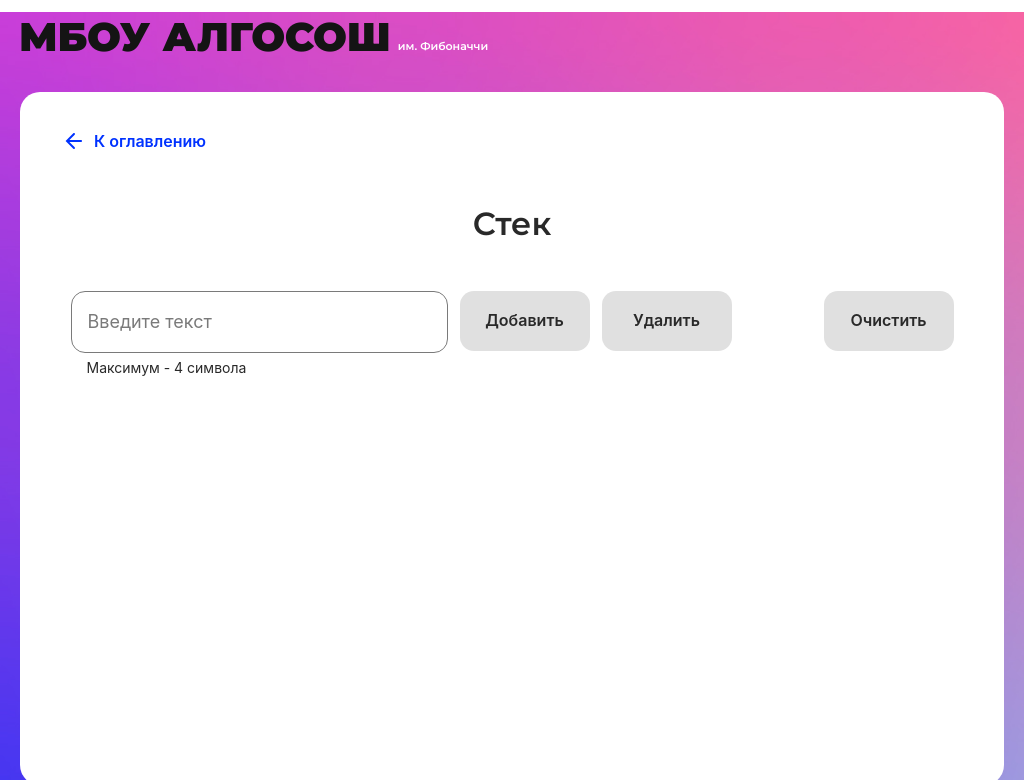
Test: stack tests › the numbers are generated correctly
In the field with test id "stack-input": (260, 322) [71,291,448,353], type "12"
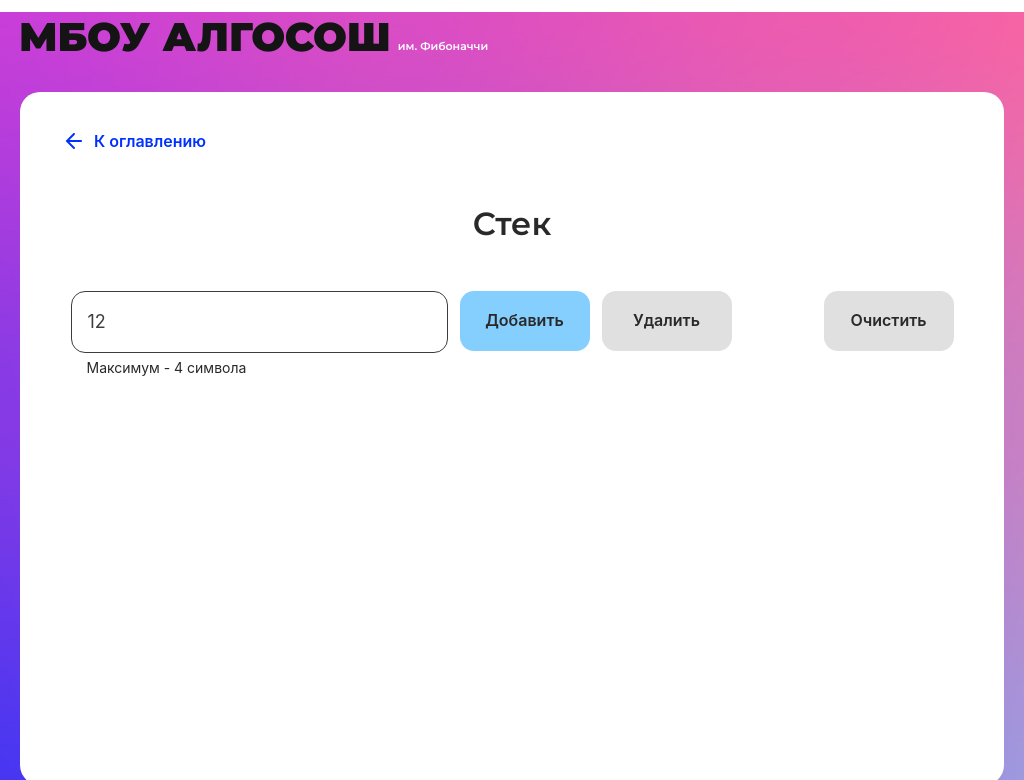
Expected: the element with test id "stack-add-btn" is enabled
Click the button with test id "stack-add-btn": (525, 321) [460,291,590,351]
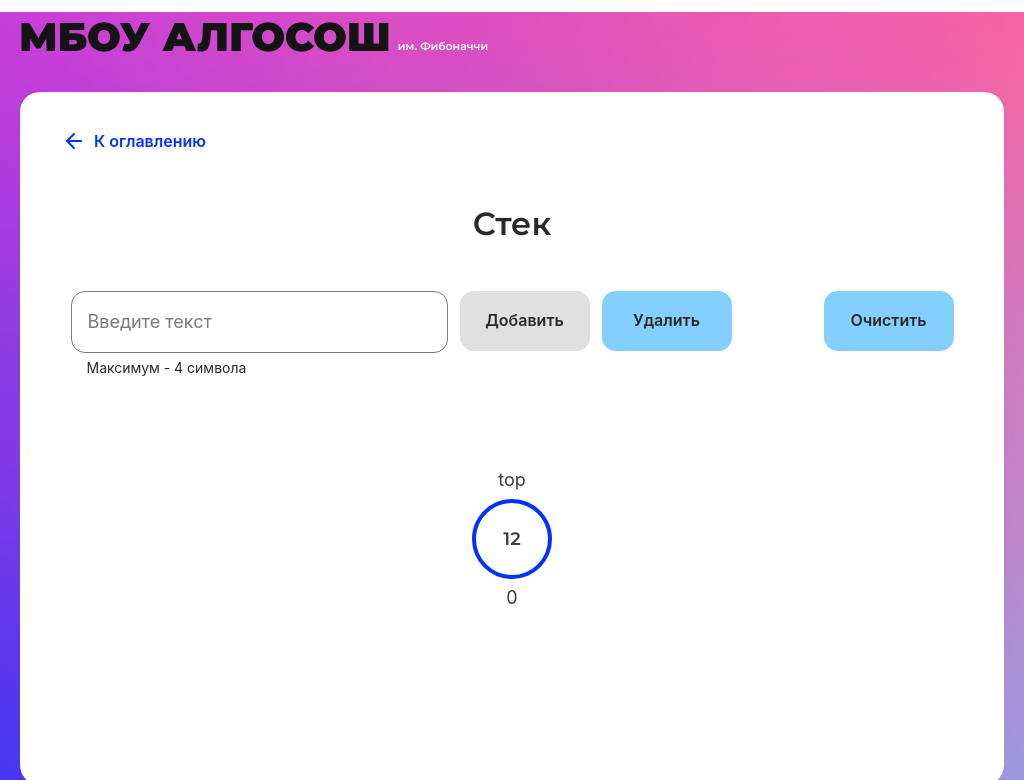
Now the number of elements with test id "circle" is 1, box [472,499,552,579]
Now the element with test id "circle" reads "12", box [472,499,552,579]
Now the button with test id "stack-add-btn" is disabled, box [460,291,590,351]
In the field with test id "stack-input": (260, 322) [71,291,448,353], type "34"
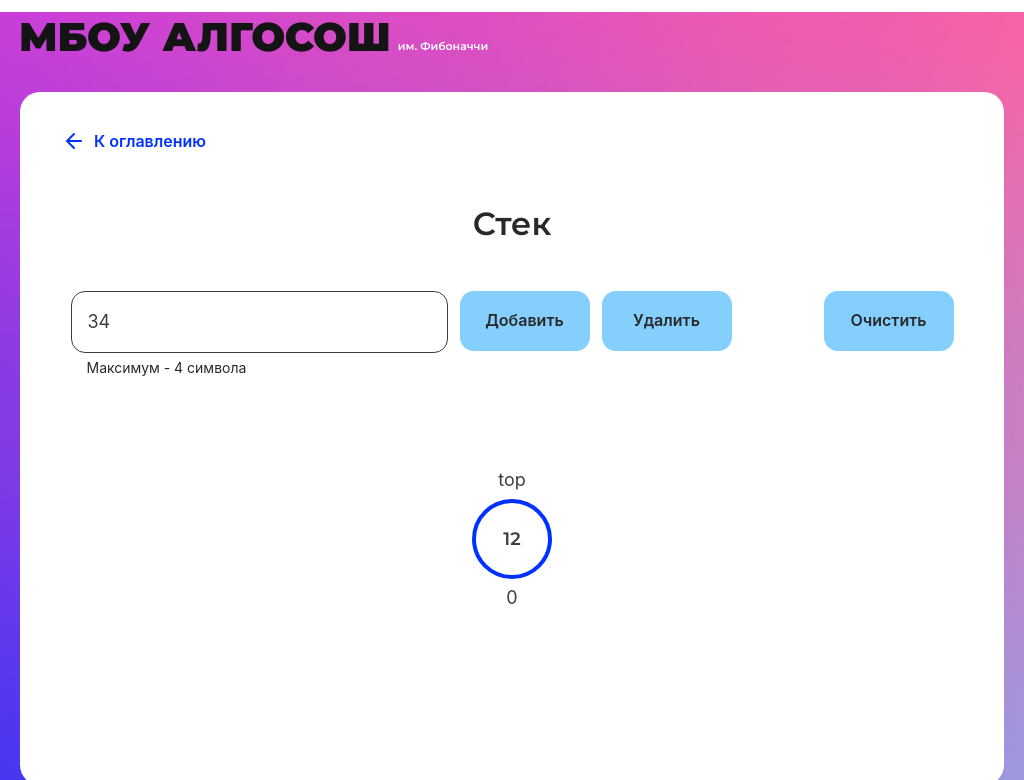
Expected: the element with test id "stack-add-btn" is enabled
Click the button with test id "stack-add-btn": (525, 321) [460,291,590,351]
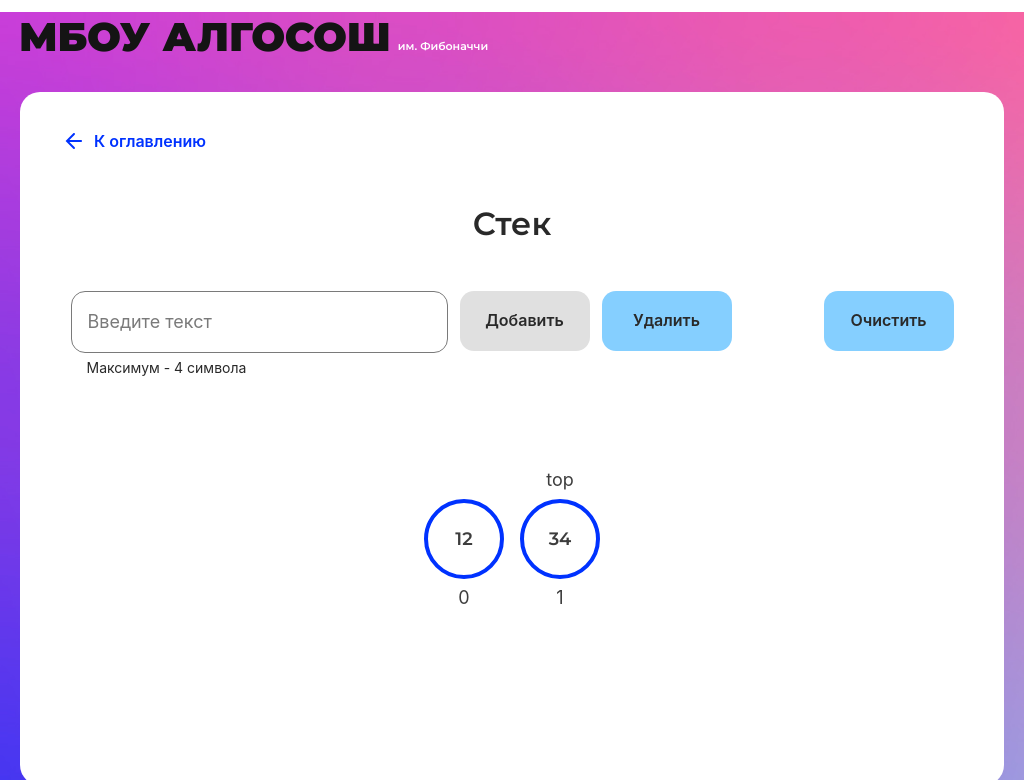
Now the element with test id "circle" reads "12", box [424,499,504,579]
Now the element with test id "circle" reads "34", box [520,499,600,579]
Now the number of elements with test id "circle" is 2, box [424,499,504,579]; [520,499,600,579]
Click the button with test id "stack-delete-btn": (667, 321) [602,291,732,351]
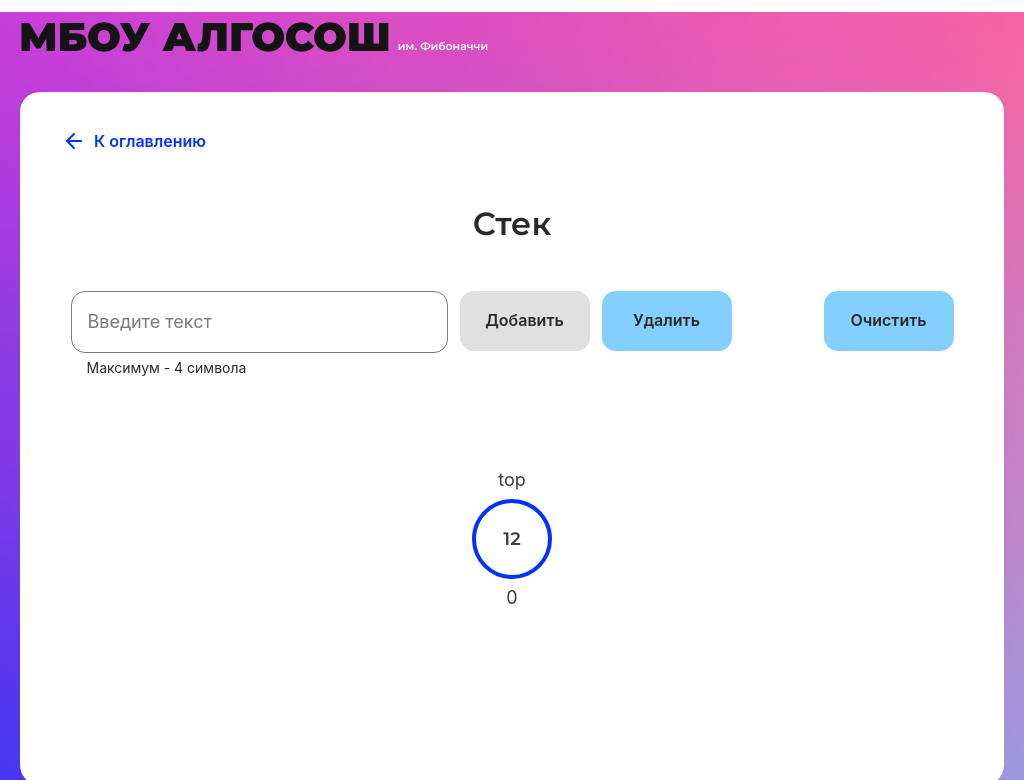
Expected: the element with test id "stack-clear-btn" is enabled
Now the number of elements with test id "circle" is 1, box [472,499,552,579]
Click the button with test id "stack-clear-btn": (889, 321) [824,291,954,351]
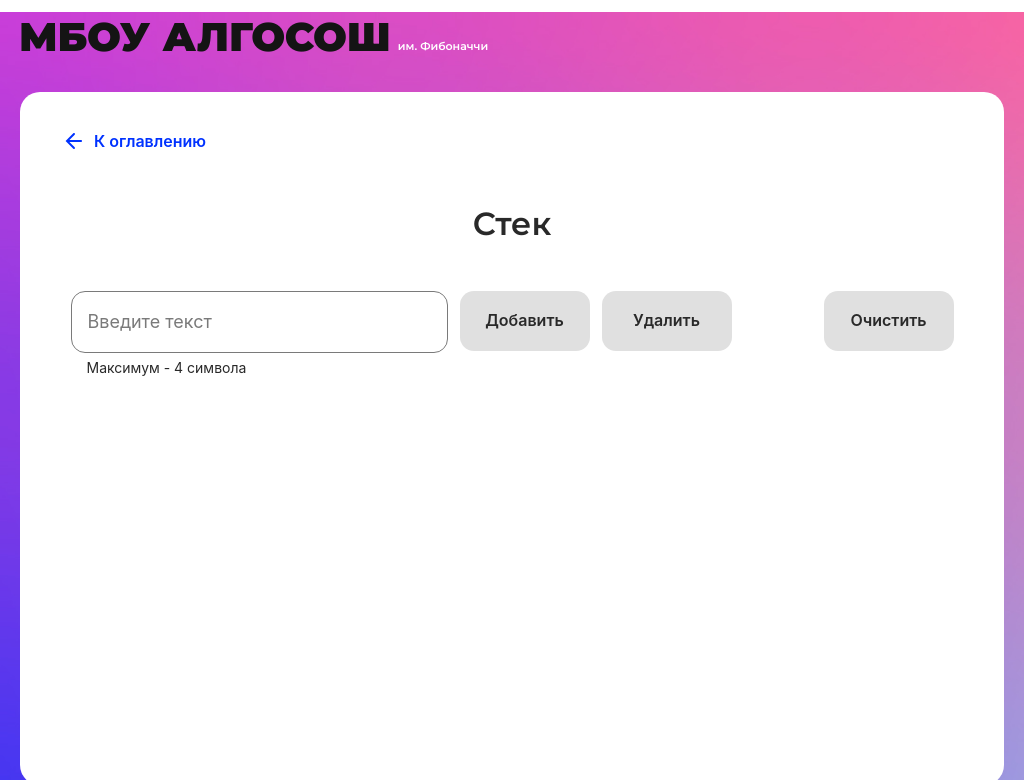
Now the element with test id "circle" is gone
